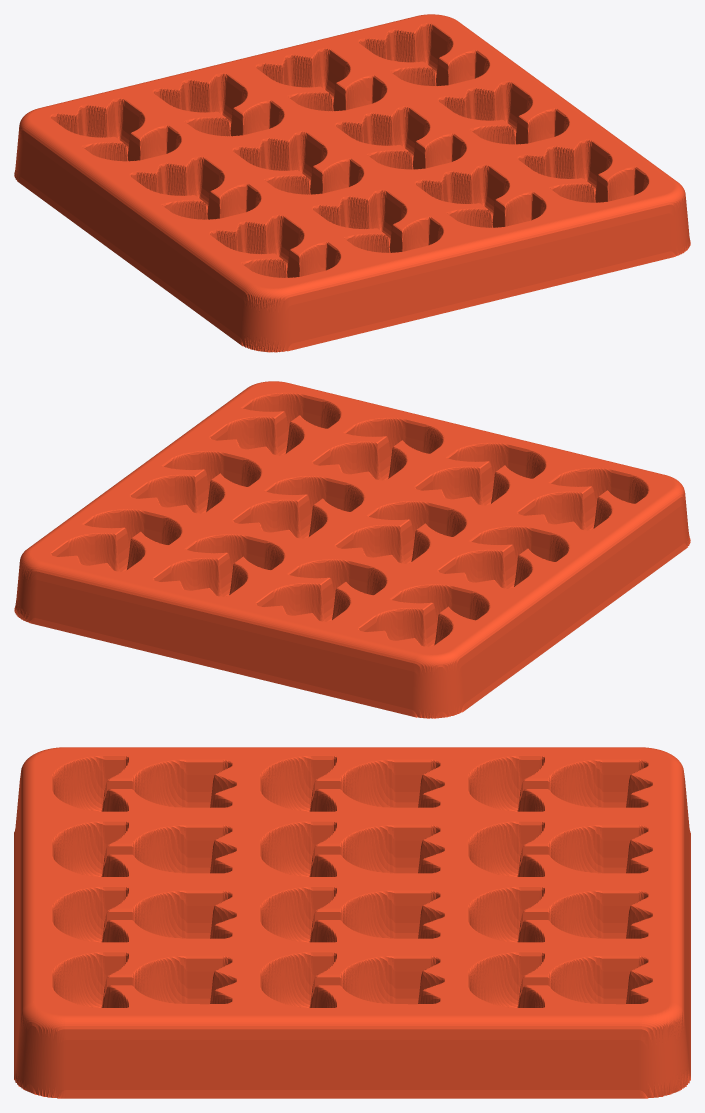
Rendered from mold.glb.
3 renders of one model, top to bottom at view 1: azimuth 30°, elevation 25°; view 2: azimuth 150°, elevation 25°; view 3: azimuth 270°, elevation 25°, orthographic. The views are drawn at different scales.
Parts seen in each view (by area): view 1: geometry_0; view 2: geometry_0; view 3: geometry_0.
Boxes of the visible parts, <box> form: geometry_0: <box>14,14,690,352</box>; geometry_0: <box>14,381,690,718</box>; geometry_0: <box>14,747,690,1098</box>.
Bounding box in the file's own units: 0.1184 × 0.0145 × 0.1192.
